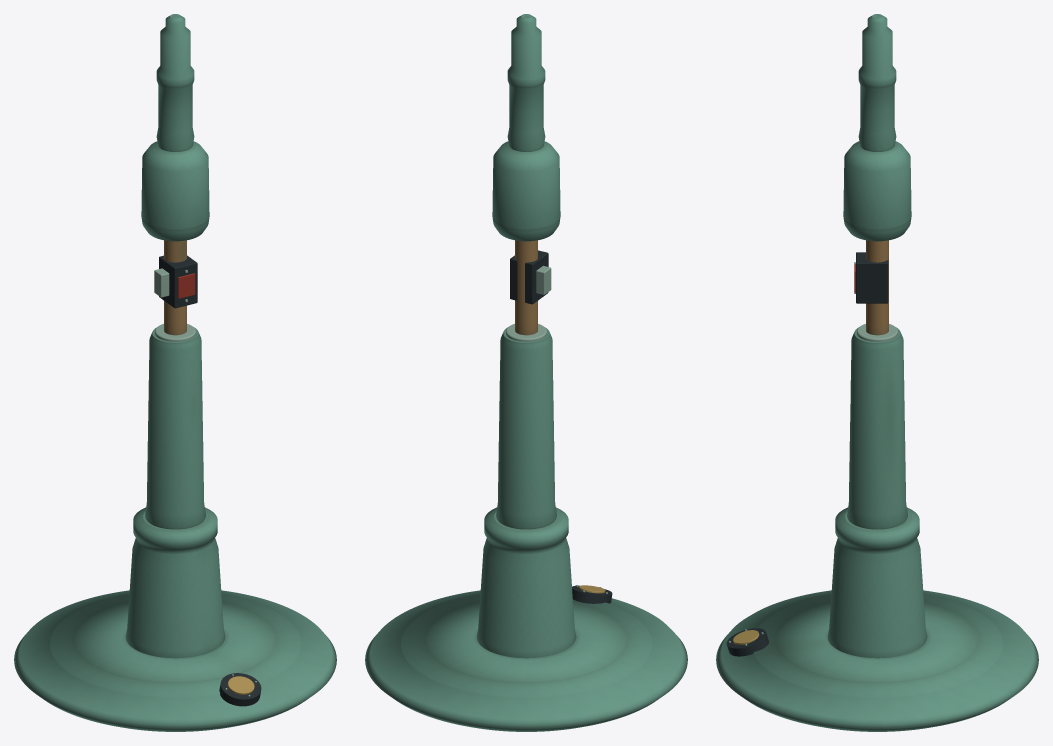
The picture shows the model from 3 angles, left to right: view 1: azimuth 30°, elevation 25°; view 2: azimuth 150°, elevation 25°; view 3: azimuth 270°, elevation 25°; orthographic projection.
Parts seen in each view (by area): view 1: RI12 ground pad, RI12 lower pedestal, RI12 mast, RI12 sensor head, RI12 tapered tip, RI12 exposed copper spindle, RI12 side sensor housing, RI12 front fitting cast retaining bezel; view 2: RI12 ground pad, RI12 lower pedestal, RI12 mast, RI12 sensor head, RI12 tapered tip, RI12 exposed copper spindle, RI12 side sensor housing; view 3: RI12 ground pad, RI12 lower pedestal, RI12 mast, RI12 sensor head, RI12 tapered tip, RI12 side sensor housing, RI12 exposed copper spindle, RI12 front fitting cast retaining bezel.
Boxes of the visible parts, x1,y1,x2,y2 form: RI12 ground pad: [14, 590, 336, 731]; RI12 lower pedestal: [125, 507, 225, 658]; RI12 mast: [145, 327, 205, 529]; RI12 sensor head: [141, 141, 209, 241]; RI12 tapered tip: [156, 14, 194, 151]; RI12 exposed copper spindle: [164, 240, 186, 335]; RI12 side sensor housing: [159, 255, 197, 308]; RI12 front fitting cast retaining bezel: [219, 673, 261, 706]; RI12 ground pad: [365, 590, 687, 731]; RI12 lower pedestal: [476, 507, 576, 658]; RI12 mast: [496, 327, 556, 529]; RI12 sensor head: [492, 141, 560, 241]; RI12 tapered tip: [507, 14, 545, 151]; RI12 exposed copper spindle: [515, 240, 537, 335]; RI12 side sensor housing: [510, 250, 548, 304]; RI12 ground pad: [716, 590, 1038, 731]; RI12 lower pedestal: [827, 507, 927, 658]; RI12 mast: [847, 327, 907, 529]; RI12 sensor head: [843, 141, 911, 241]; RI12 tapered tip: [858, 14, 896, 151]; RI12 side sensor housing: [856, 252, 888, 303]; RI12 exposed copper spindle: [866, 240, 888, 335]; RI12 front fitting cast retaining bezel: [726, 628, 768, 656].
Bounding box in the file's own units: 1.8 × 4.04 × 1.8.
Materials: 7 (3 with a texture image).
